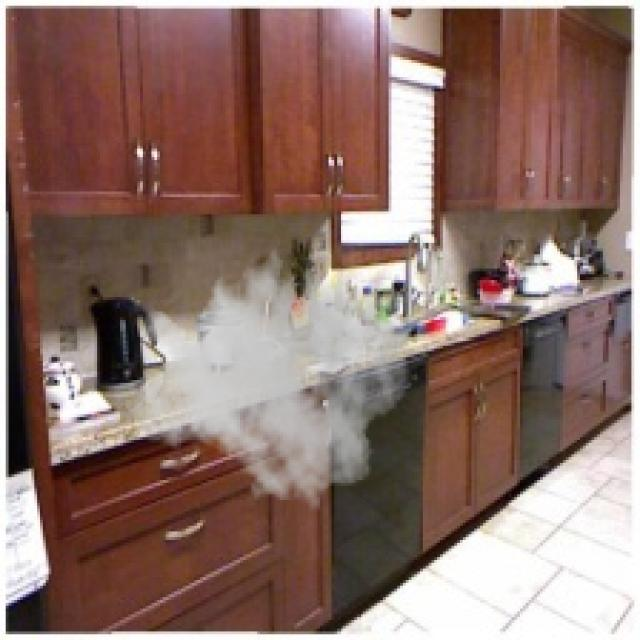smoke: (128, 234, 412, 517)
